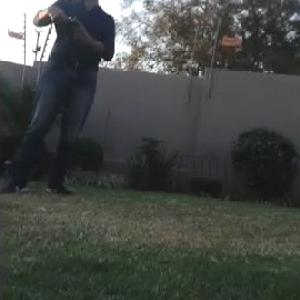follow: (0, 0, 119, 199)
